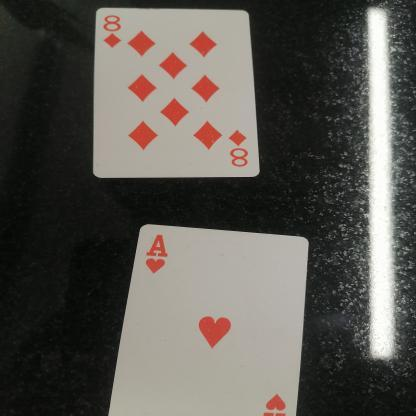8D: (93, 7, 130, 50)
AH: (134, 234, 190, 280)
